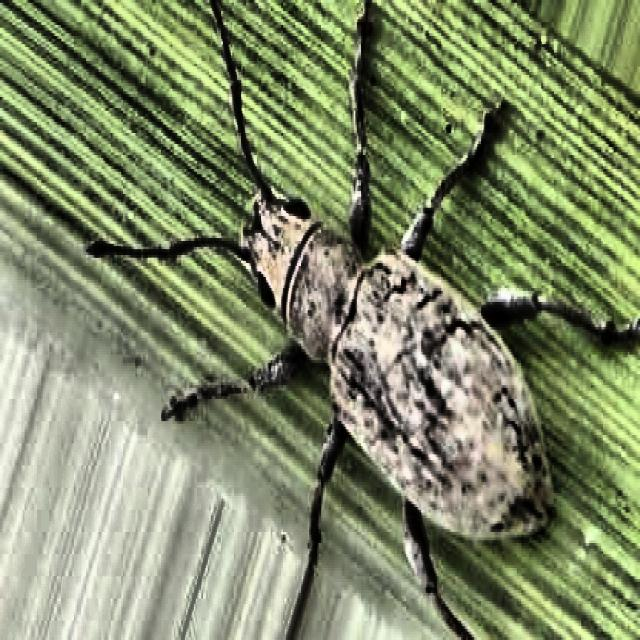Stink bug: (139, 29, 610, 635)
